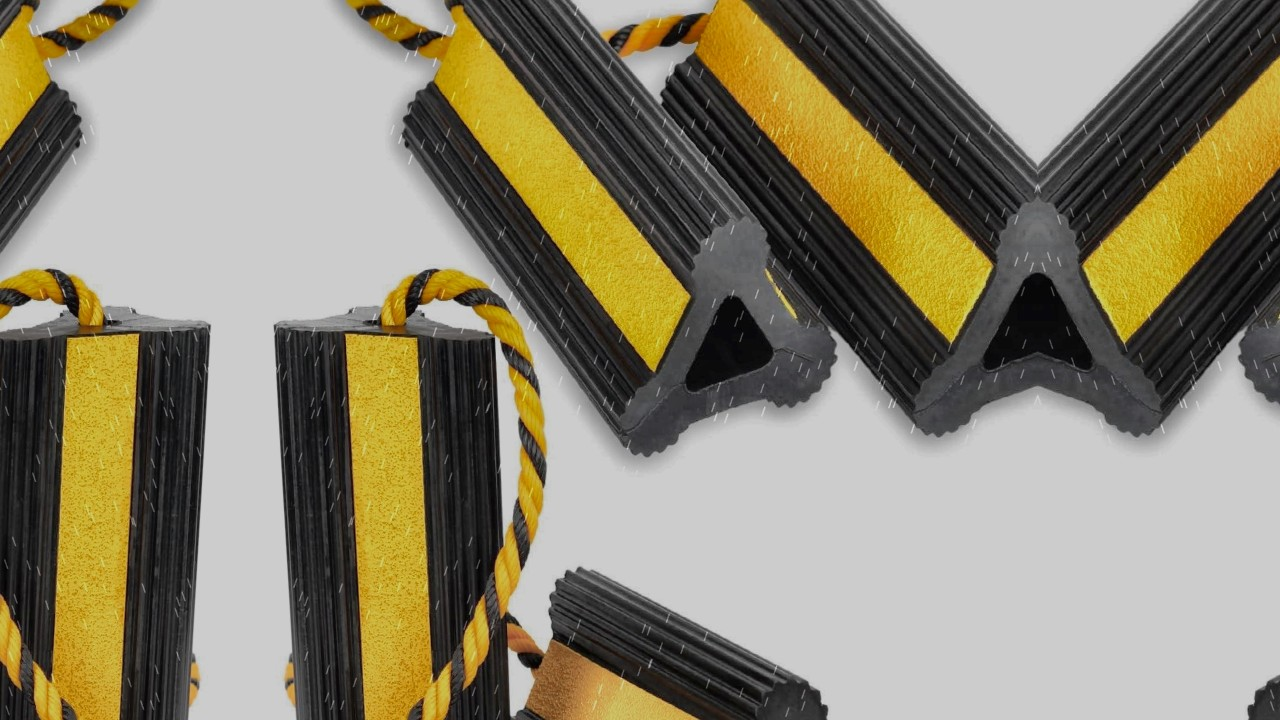chock: (390, 0, 842, 477), (650, 0, 1038, 468), (1038, 0, 1280, 468), (260, 301, 525, 720), (0, 301, 224, 720), (494, 556, 909, 720), (0, 0, 94, 477), (1234, 0, 1280, 477), (1167, 556, 1280, 720)
